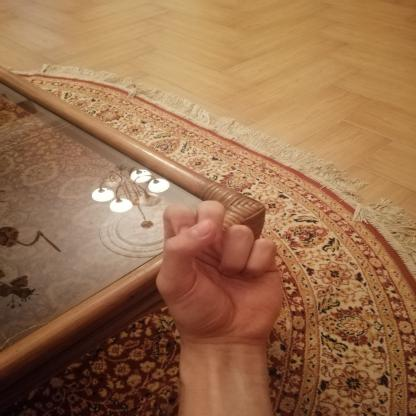QAAF: (138, 190, 300, 352)
